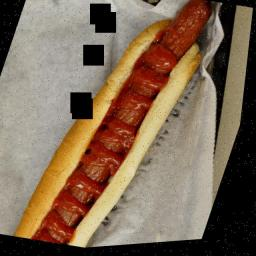hotdog: (41, 126, 124, 252), (104, 34, 172, 150), (162, 0, 220, 71)
